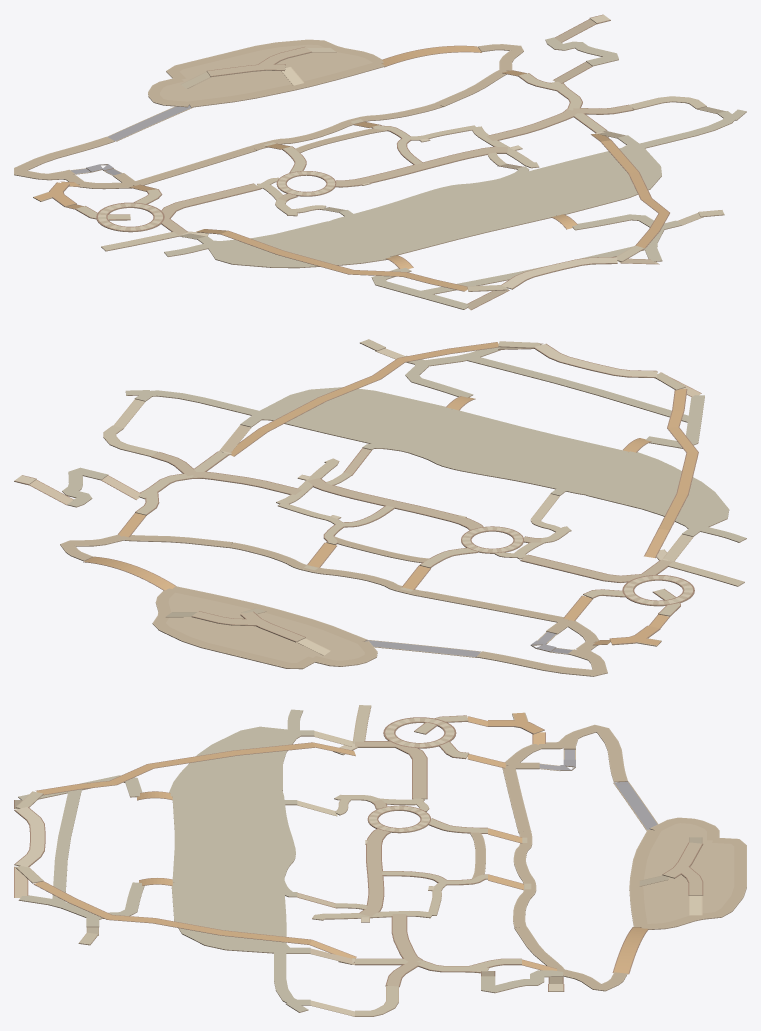
File: town-hardscape-4x.glb
3 renders of one model, top to bottom at view 1: azimuth 30°, elevation 25°; view 2: azimuth 150°, elevation 25°; view 3: azimuth 270°, elevation 25°, orthographic. The views are drawn at different scales.
Parts seen in each view (by area): view 1: L2 Highlands and Creek Banks, L0 Crescent Shore Walk, L1 Town Loop and Wings, Ribbon_F35E_Slide, L3 Dual Scenic Summits, Ribbon_F35W_Slide, S-L1 Islet Echo Terrace, Ribbon_F37_SeaArchBridge, Ribbon_F38_TidalStepping, L0.5 Boatyard Quay Walk; view 2: L2 Highlands and Creek Banks, L0 Crescent Shore Walk, L1 Town Loop and Wings, Ribbon_F35E_Slide, Ribbon_F35W_Slide, L3 Dual Scenic Summits, S-L1 Islet Echo Terrace, Ribbon_F37_SeaArchBridge, Ribbon_F38_TidalStepping, L0.5 Boatyard Quay Walk; view 3: L2 Highlands and Creek Banks, L0 Crescent Shore Walk, L1 Town Loop and Wings, Ribbon_F35W_Slide, Ribbon_F35E_Slide, L3 Dual Scenic Summits, S-L1 Islet Echo Terrace, Ribbon_F37_SeaArchBridge, Ribbon_F38_TidalStepping, L0.5 Boatyard Quay Walk.
Part boxes in pixels (bbox=[...]): L2 Highlands and Creek Banks: bbox=[164, 37, 746, 309]; L0 Crescent Shore Walk: bbox=[14, 39, 523, 189]; L1 Town Loop and Wings: bbox=[75, 73, 706, 251]; Ribbon_F35E_Slide: bbox=[196, 229, 467, 291]; L3 Dual Scenic Summits: bbox=[467, 14, 644, 291]; Ribbon_F35W_Slide: bbox=[591, 133, 669, 248]; S-L1 Islet Echo Terrace: bbox=[206, 47, 312, 77]; Ribbon_F37_SeaArchBridge: bbox=[382, 45, 482, 67]; Ribbon_F38_TidalStepping: bbox=[107, 105, 193, 141]; L0.5 Boatyard Quay Walk: bbox=[33, 182, 76, 206]; L2 Highlands and Creek Banks: bbox=[62, 347, 746, 542]; L0 Crescent Shore Walk: bbox=[60, 534, 607, 676]; L1 Town Loop and Wings: bbox=[103, 425, 744, 616]; Ribbon_F35E_Slide: bbox=[644, 389, 698, 558]; Ribbon_F35W_Slide: bbox=[230, 342, 499, 456]; L3 Dual Scenic Summits: bbox=[14, 341, 685, 485]; S-L1 Islet Echo Terrace: bbox=[191, 611, 305, 642]; Ribbon_F37_SeaArchBridge: bbox=[83, 556, 176, 590]; Ribbon_F38_TidalStepping: bbox=[365, 640, 480, 657]; L0.5 Boatyard Quay Walk: bbox=[609, 625, 661, 646]; L2 Highlands and Creek Banks: bbox=[18, 709, 563, 1012]; L0 Crescent Shore Walk: bbox=[502, 724, 746, 991]; L1 Town Loop and Wings: bbox=[312, 705, 521, 1016]; Ribbon_F35W_Slide: bbox=[33, 881, 356, 958]; Ribbon_F35E_Slide: bbox=[35, 742, 355, 795]; L3 Dual Scenic Summits: bbox=[14, 791, 564, 991]; S-L1 Islet Echo Terrace: bbox=[662, 842, 703, 895]; Ribbon_F37_SeaArchBridge: bbox=[612, 927, 648, 974]; Ribbon_F38_TidalStepping: bbox=[613, 781, 657, 830]; L0.5 Boatyard Quay Walk: bbox=[488, 712, 544, 734].
Bounding box in the file's own units: 111 × 5.7 × 108.
